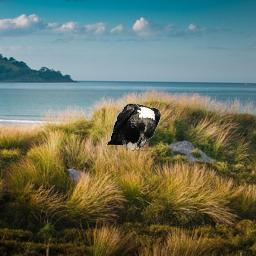Crow: (105, 102, 161, 152)
